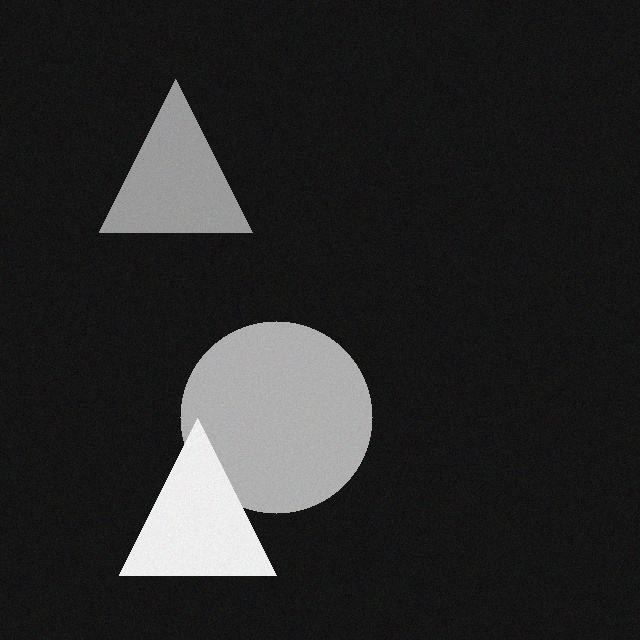circle: (165, 314, 357, 506)
triangle: (104, 411, 261, 568), (84, 72, 237, 225)
